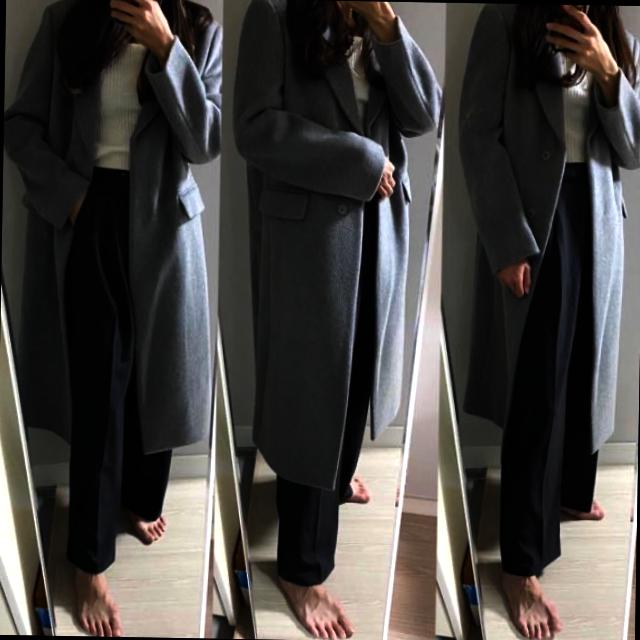coat: (227, 0, 443, 492), (0, 0, 218, 456), (449, 2, 640, 454)
slacks: (58, 163, 178, 574), (498, 158, 604, 575), (277, 203, 368, 587)
